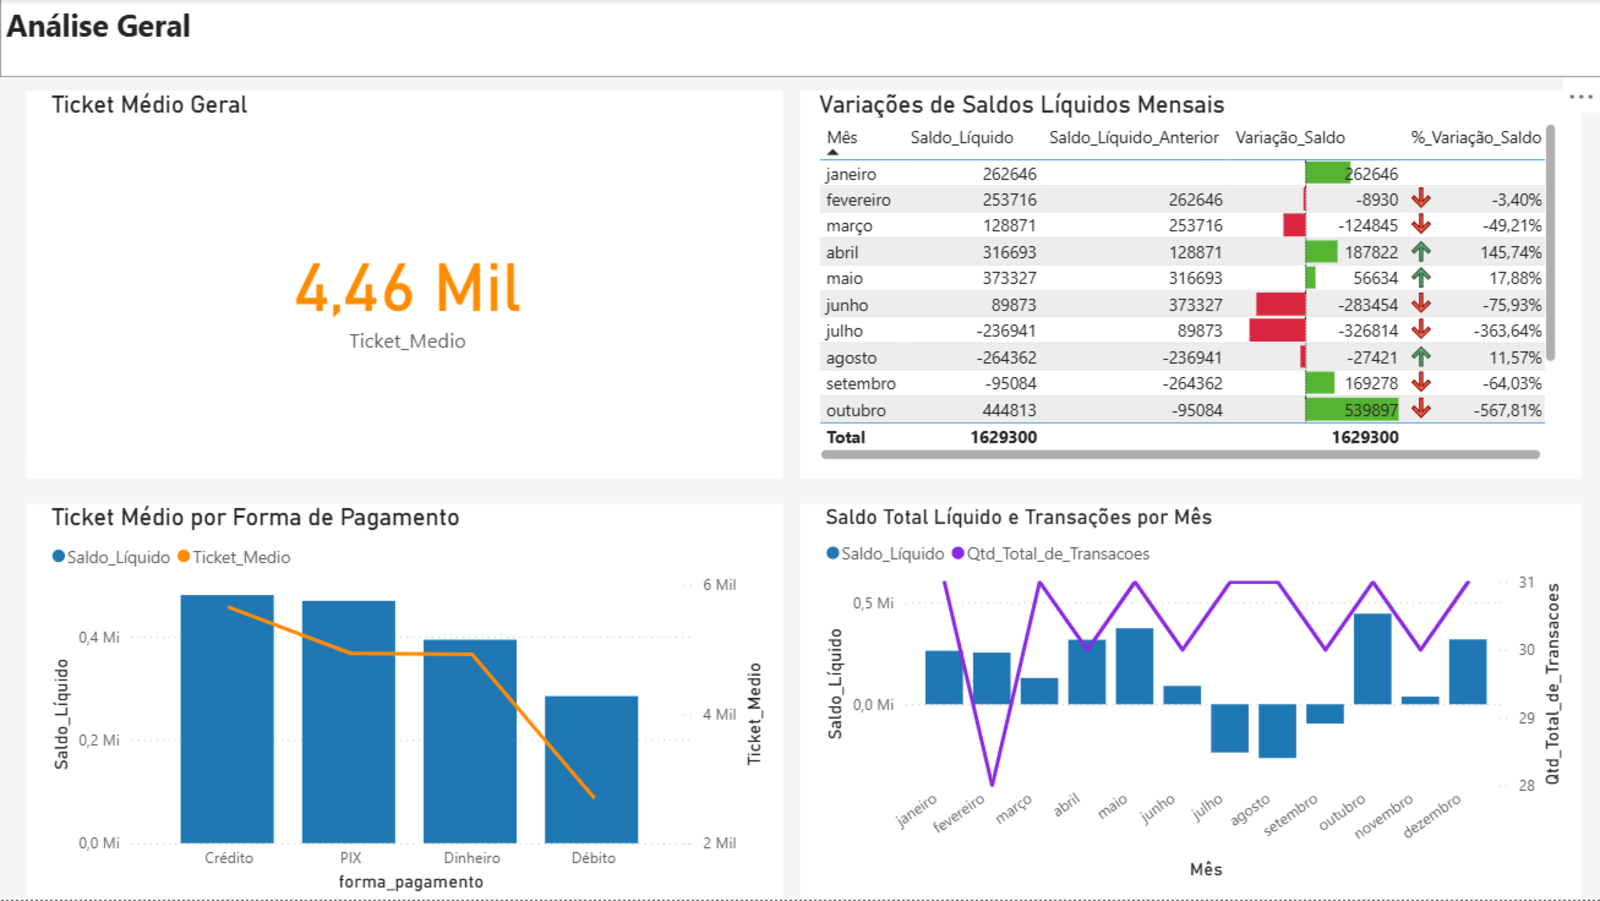

The page's visual inventory and layout, read from the dashboard file:
{"tool":"powerbi","page":{"name":"Página 2","canvas":[1280,720],"ordinal":1},"visuals":[{"type":"tableEx","title":"Variações de Saldos Líquidos Mensais","fields":{"Values":["Calendario.Date.Variation.Hierarquia de datas.Mês","mini_projeto_financeiro_Clean.Saldo_Total","mini_projeto_financeiro_Clean.Saldo_Anterior","mini_projeto_financeiro_Clean.Comparativo_do_Saldo","mini_projeto_financeiro_Clean.%_Variação_Saldo"]},"box":[640,73,624,310],"z":0},{"type":"lineClusteredColumnComboChart","title":"Ticket Médio por Forma de Pagamento","fields":{"Category":["mini_projeto_financeiro_Clean.forma_pagamento"],"Y":["mini_projeto_financeiro_Clean.Saldo_Total"],"Y2":["mini_projeto_financeiro_Clean.Ticket_Medio"]},"box":[21,403,605,315],"z":1000},{"type":"card","title":"Ticket Médio Geral","fields":{"Values":["mini_projeto_financeiro_Clean.Ticket_Medio"]},"box":[21,73,605,310],"z":2000},{"type":"lineClusteredColumnComboChart","title":"Saldo Total Líquido e Transações por Mês","fields":{"Category":["Calendario.Date.Variation.Hierarquia de datas.Mês"],"Y":["mini_projeto_financeiro_Clean.Saldo_Total"],"Y2":["mini_projeto_financeiro_Clean.Total_de_Transacoes"]},"box":[640,403,624,315],"z":3000},{"type":"textbox","box":[0,0,1279,62],"z":4000}]}

Visuals, with their boxes in screenshot pixels (x1, y1, x2, y2), scaled from the page's 1280x720 canvas onto the 1600x901 screenshot:
"Variações de Saldos Líquidos Mensais" tableEx: 800,91,1580,479
"Ticket Médio por Forma de Pagamento" lineClusteredColumnComboChart: 26,504,782,898
"Ticket Médio Geral" card: 26,91,782,479
"Saldo Total Líquido e Transações por Mês" lineClusteredColumnComboChart: 800,504,1580,898
textbox: 0,0,1599,78
